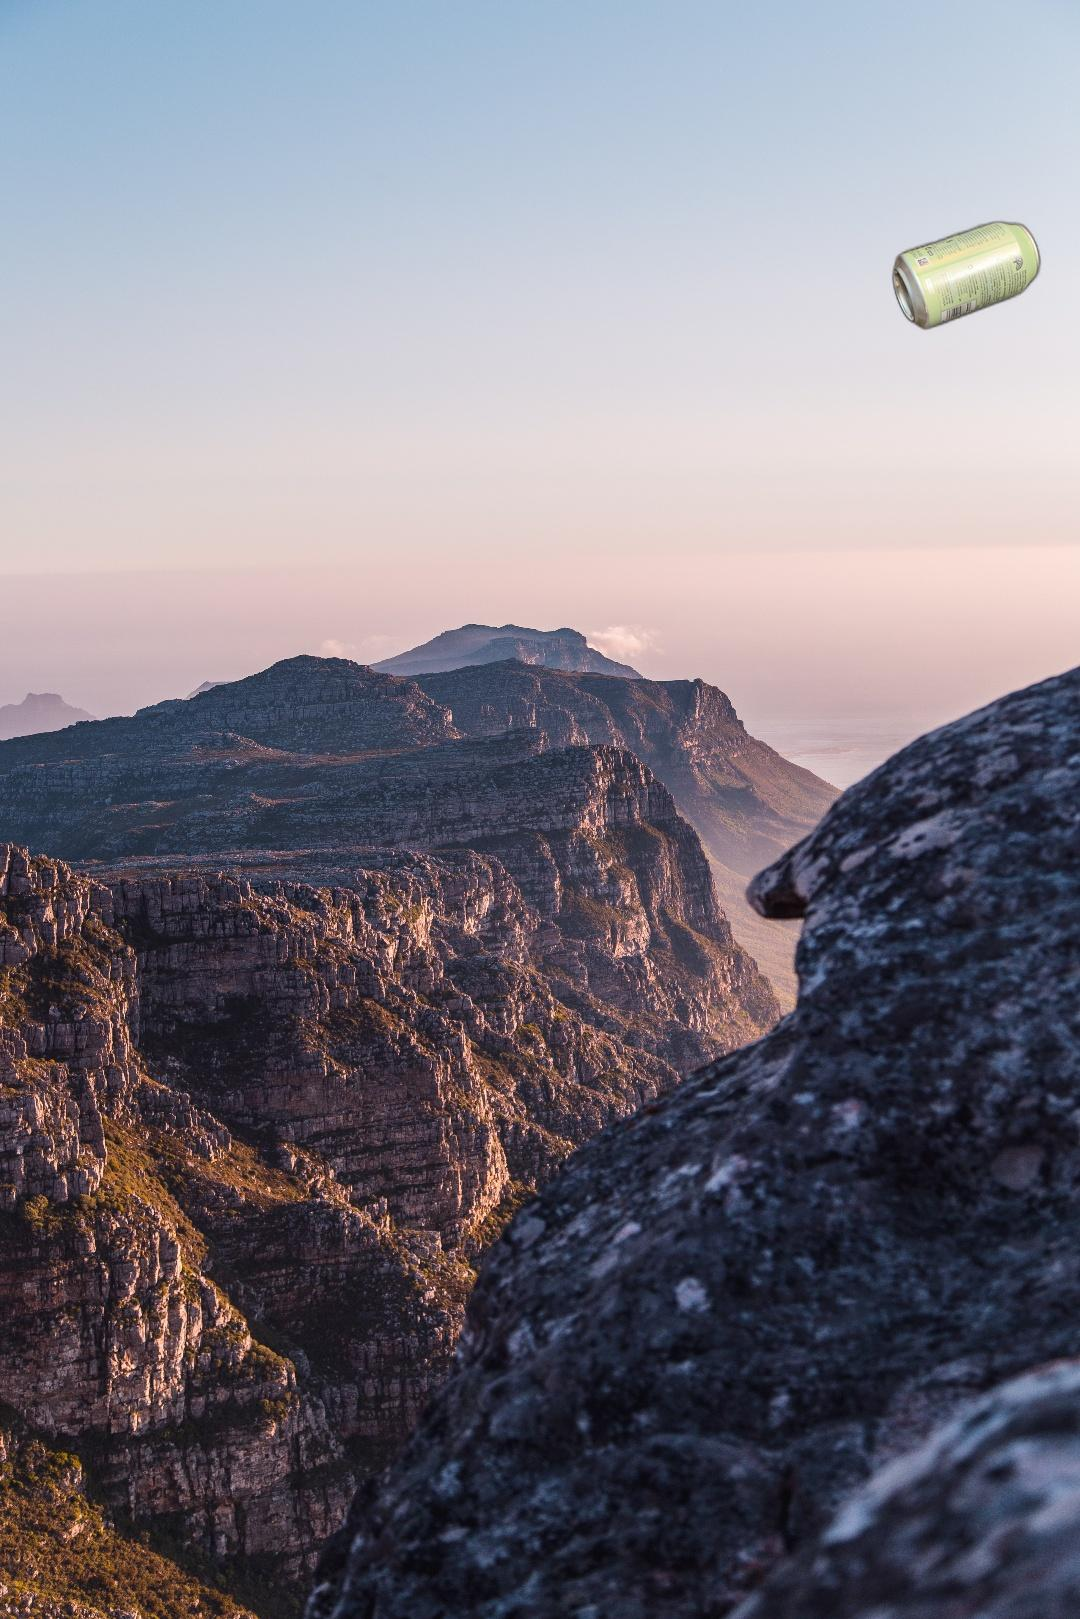metal-cans: (888, 215, 1044, 336)
